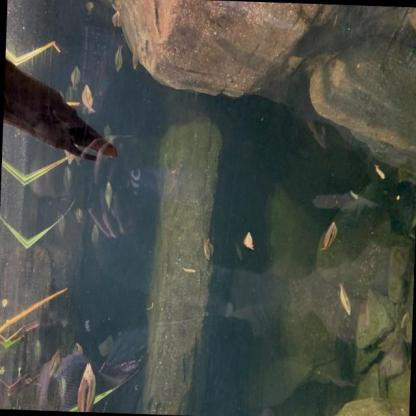fish: (75, 361, 97, 412), (319, 219, 338, 253), (337, 283, 354, 316), (80, 83, 96, 117), (103, 181, 114, 213), (202, 236, 214, 263), (114, 43, 124, 74), (69, 64, 81, 89), (63, 164, 73, 194), (55, 212, 67, 237), (131, 43, 141, 71), (243, 229, 255, 252), (111, 7, 123, 30), (90, 222, 100, 248), (374, 164, 387, 180), (74, 204, 83, 226), (62, 150, 76, 161)
